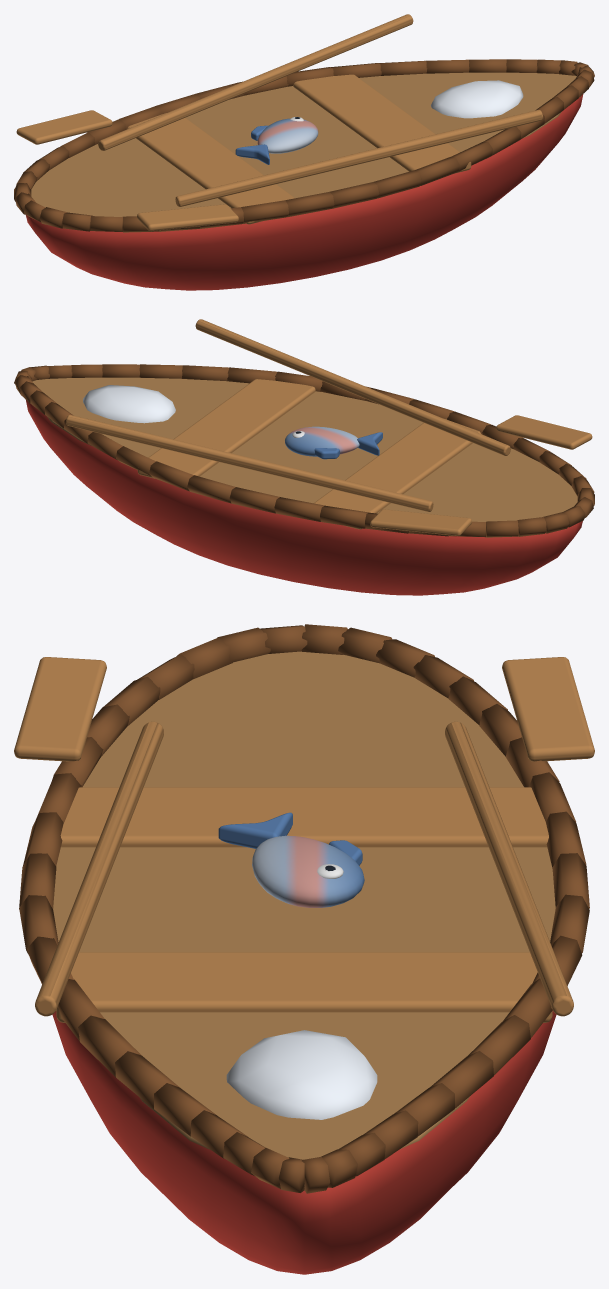
Rendered from boat_small.glb.
3 renders of one model, top to bottom at view 1: azimuth 30°, elevation 25°; view 2: azimuth 150°, elevation 25°; view 3: azimuth 270°, elevation 25°, orthographic. The views are drawn at different scales.
Visible parts, largest first — view 1: bf_body; view 2: bf_body; view 3: bf_body.
Boxes of the visible parts, x1,y1,x2,y2 form: bf_body: (14,14,594,290); bf_body: (14,319,594,595); bf_body: (14,624,594,1274).
Bounding box in the file's own units: 2.66 × 0.6077 × 1.19.
Materials: 2 (1 with a texture image).
